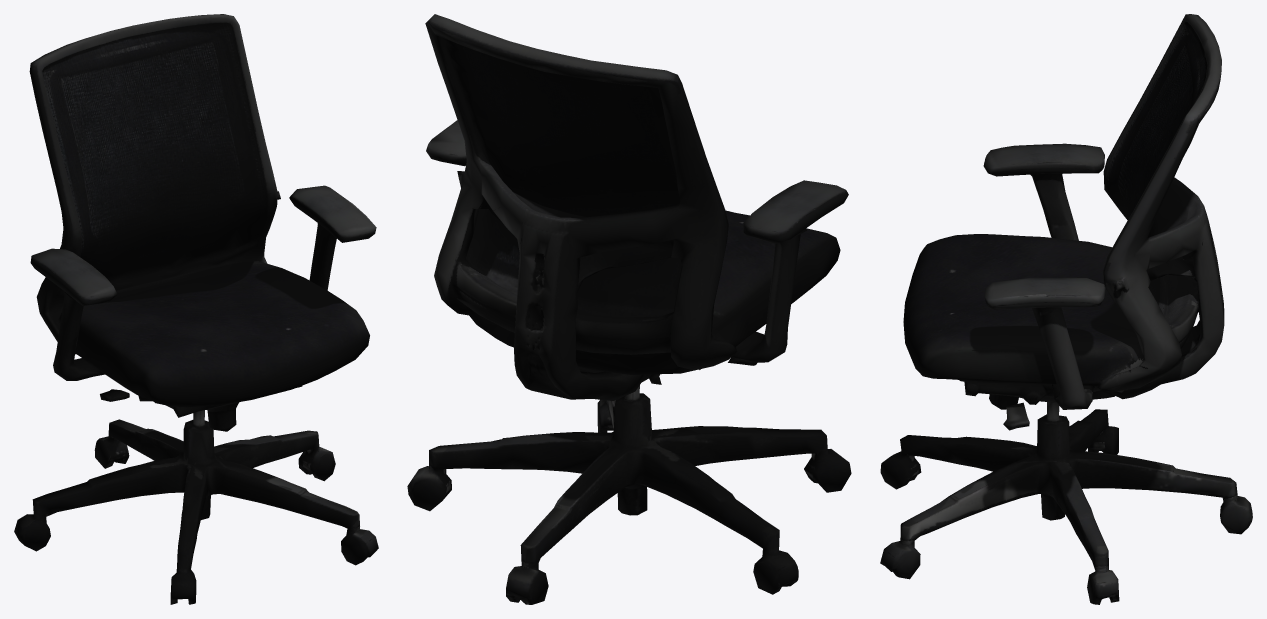
Rendered from sandalyebake.fbx.
3 views of the same model, side by side, from view 1: azimuth 30°, elevation 25°; view 2: azimuth 150°, elevation 25°; view 3: azimuth 270°, elevation 25° (orthographic). The views are drawn at different scales.
Visible parts, largest first — view 1: sandalye_low; view 2: sandalye_low; view 3: sandalye_low.
Part boxes in pixels (x1,y1,x2,y2): sandalye_low: [14, 14, 378, 604]; sandalye_low: [407, 14, 851, 604]; sandalye_low: [880, 14, 1252, 604].
Size of the model in its own units: 1.42 by 1.91 by 1.38.
